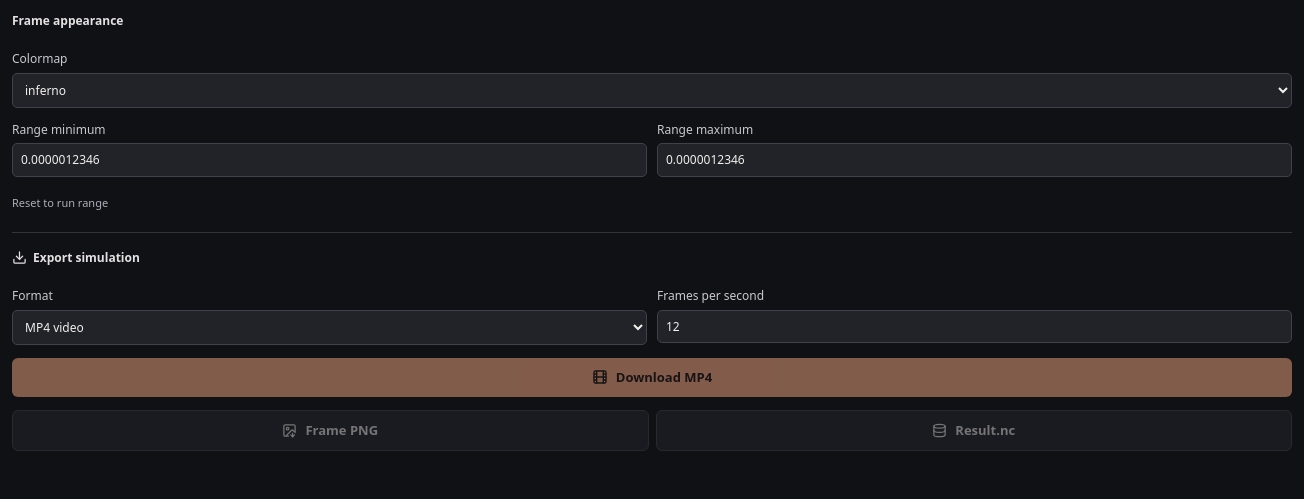
Scenario: shows invalid edited ranges even when the reported range is missing or constant ([0.000001234567,0.000001234567])
The image size is (1304, 499).
Check: the text "Enter a minimum" is not shown
Replace the text in the number field labelled "Range minimum" with "2": (330, 160) [12, 143, 647, 177]
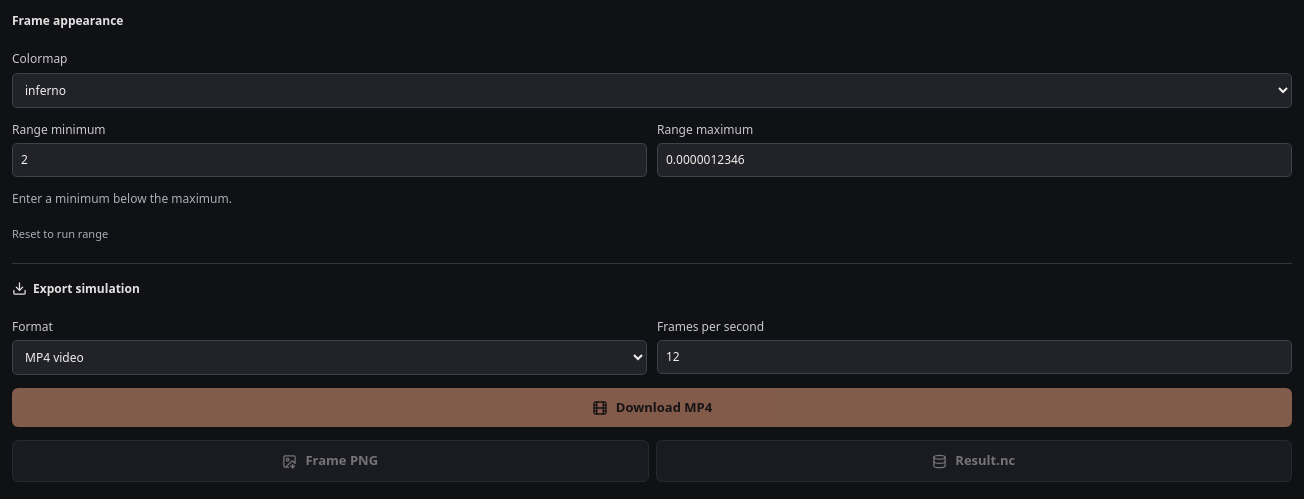
Check: the text "Enter a minimum below the maximum." is shown, box [12, 190, 232, 207]
Click the button "Reset to run range": click(60, 234) [12, 221, 108, 247]
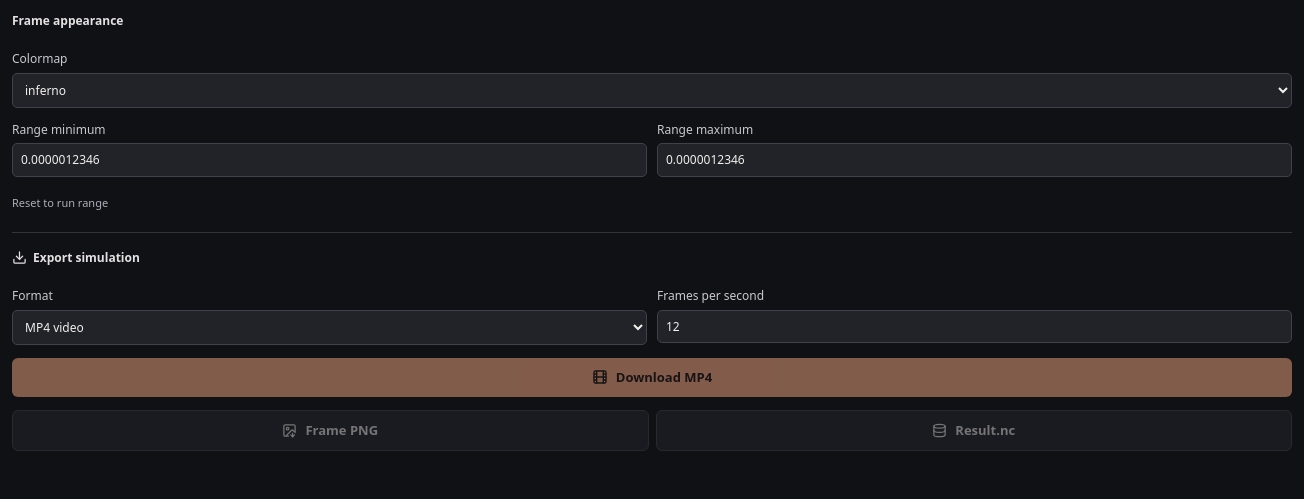
Check: the text "Enter a minimum" is gone
Check: the number field labelled "Range minimum" holds "0.0000012346", box [12, 143, 647, 177]
